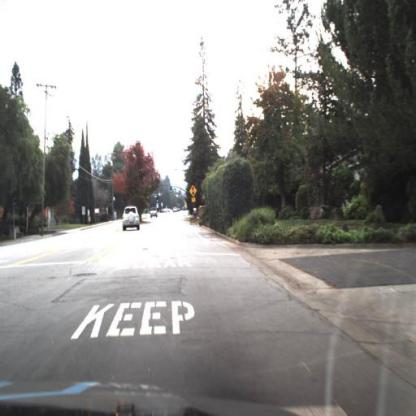car: (121, 202, 141, 231)
